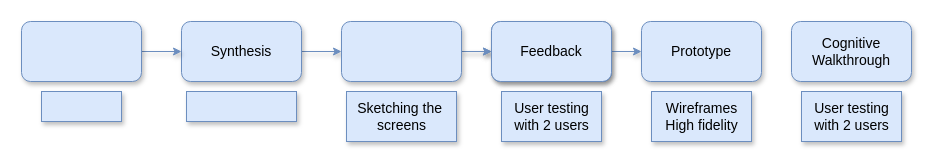
The diagram is 935 pixels wide and 166 high, and some of its shapes have lost their labels. The shapes that lost their labels are listed below. From the top down, each one's centre as x and y in pixels, then its label:
At (x=82, y=52): "Research".
At (x=402, y=52): "Ideation".
At (x=82, y=107): "Interview".
At (x=242, y=107): "User persona".
